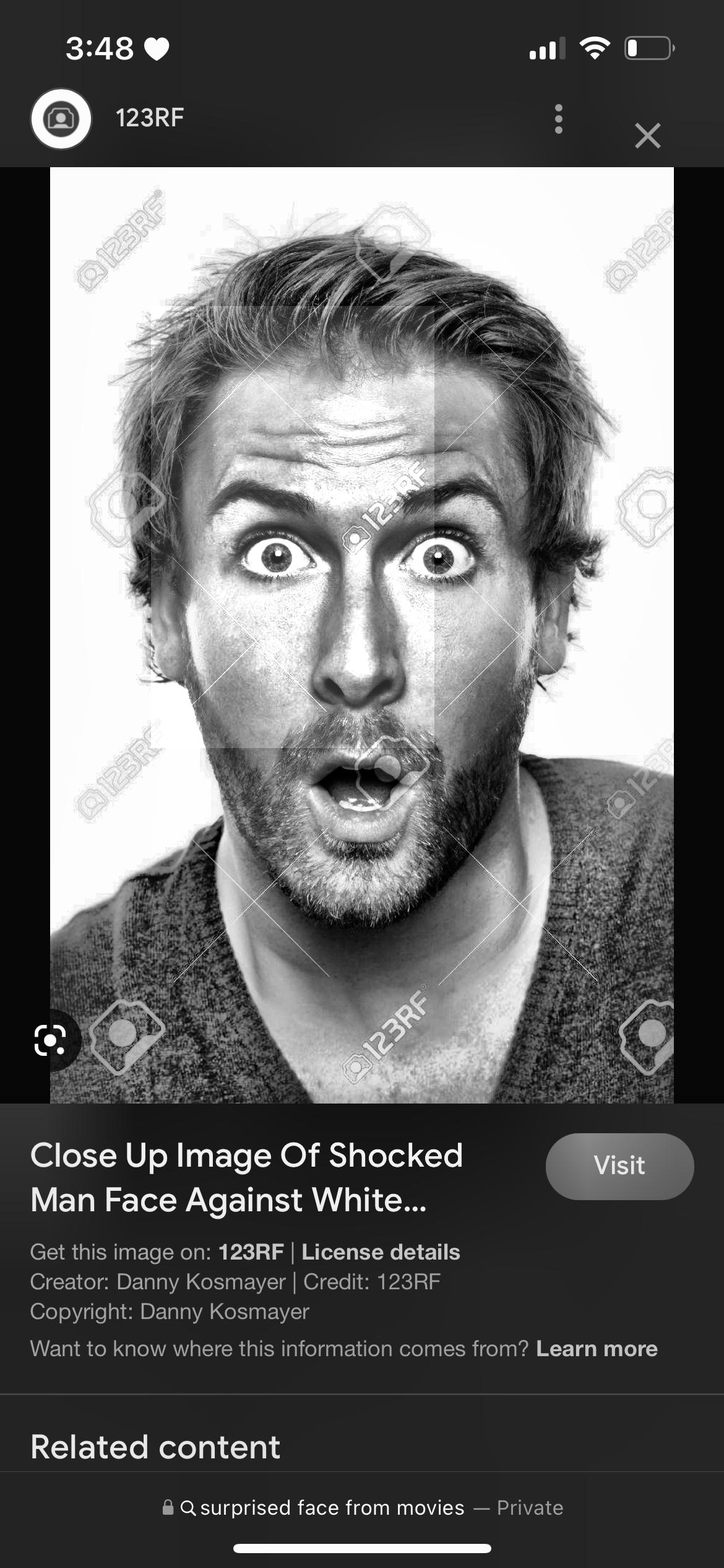surprised: (187, 378, 537, 925)
